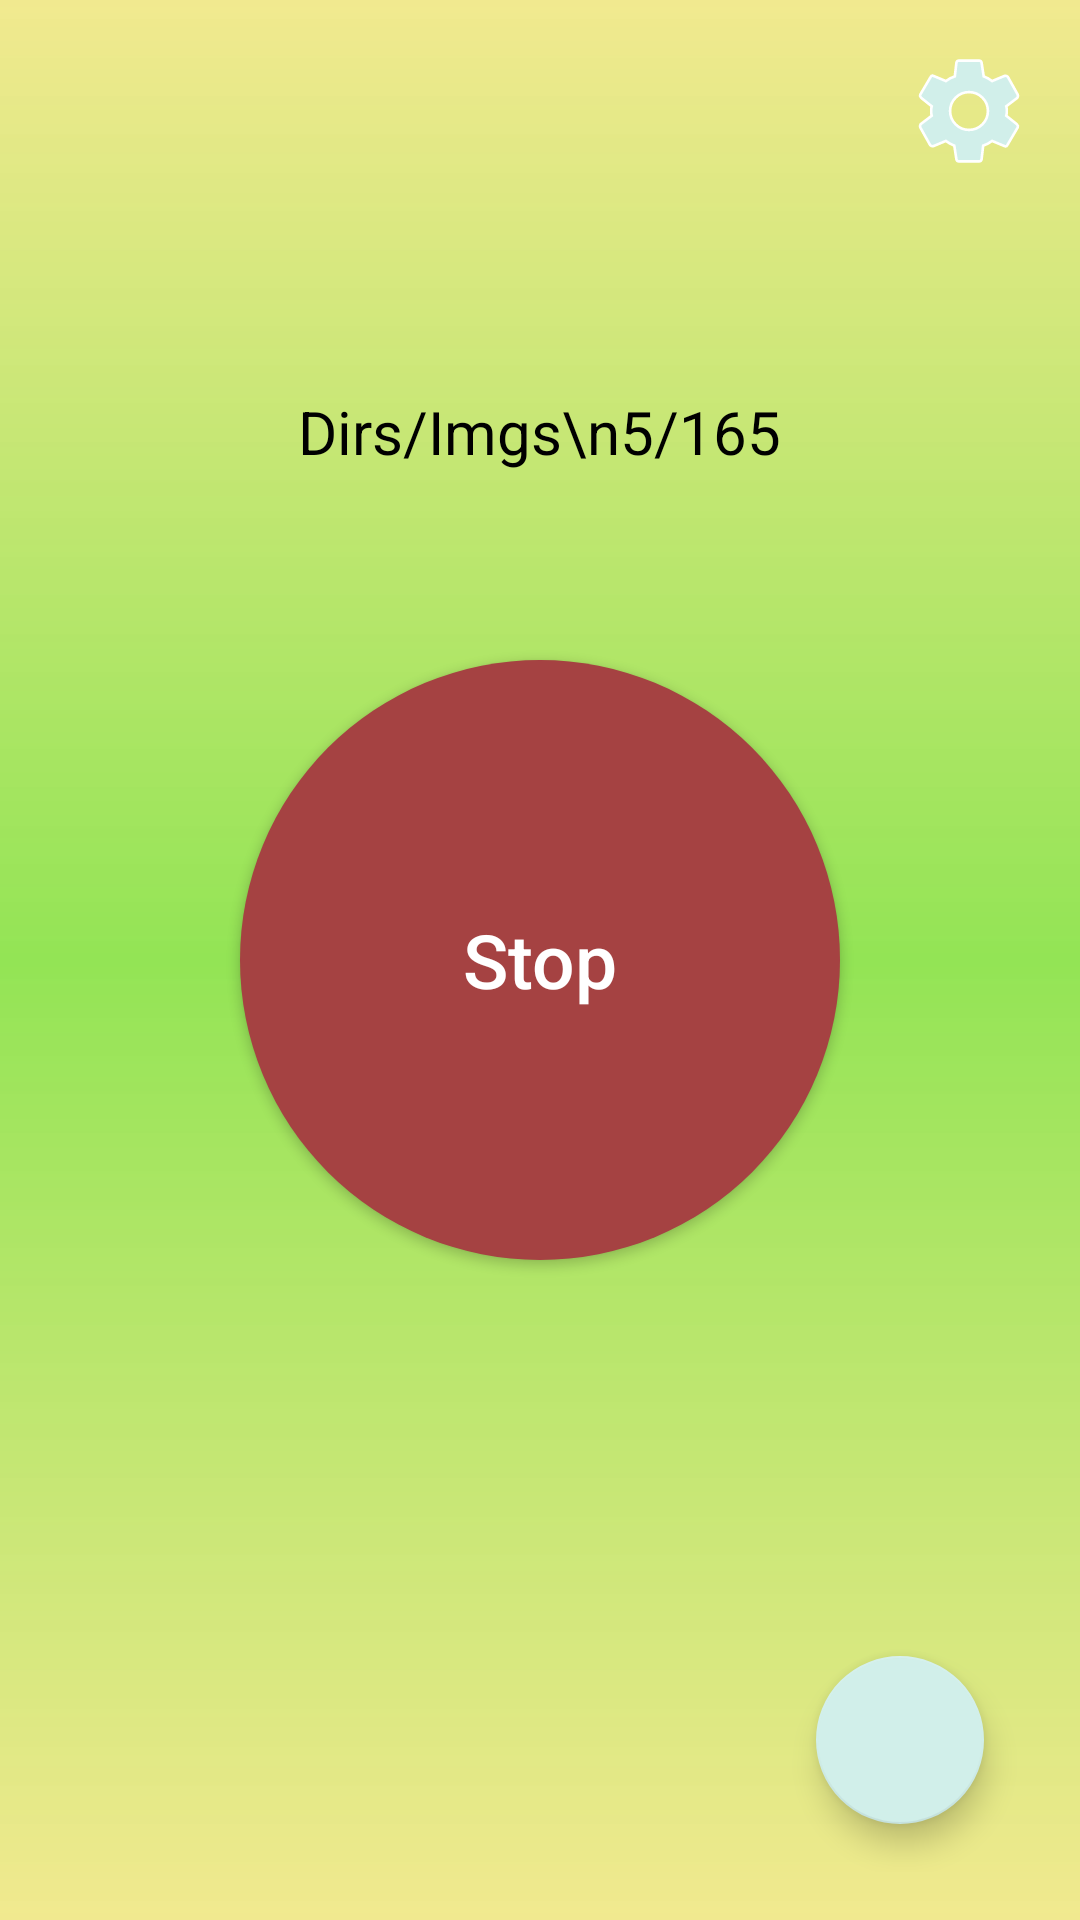

Where to tap for icons on this 1080w x 1920h app screen, as (x,y):
settings: (969,111)
